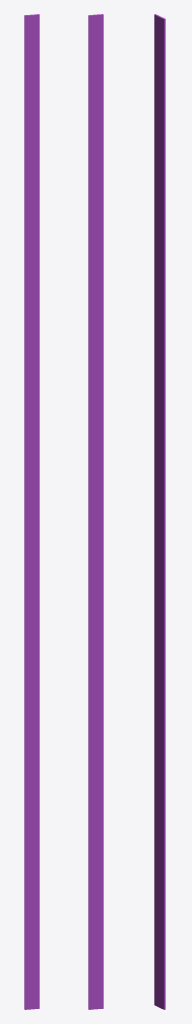
The picture shows the model from 3 angles, left to right: view 1: azimuth 30°, elevation 25°; view 2: azimuth 210°, elevation 25°; view 3: azimuth 330°, elevation 25°; orthographic projection.
Visible parts, largest first — view 1: _______________led1_3; view 2: _______________led1_3; view 3: _______________led1_3.
Part boxes in pixels (left/top/right/bottom): _______________led1_3: left=24, top=14, right=39, bottom=1009; _______________led1_3: left=88, top=14, right=103, bottom=1009; _______________led1_3: left=154, top=14, right=165, bottom=1009.
Bounding box in the file's own units: 7.88 × 580 × 3.58.
